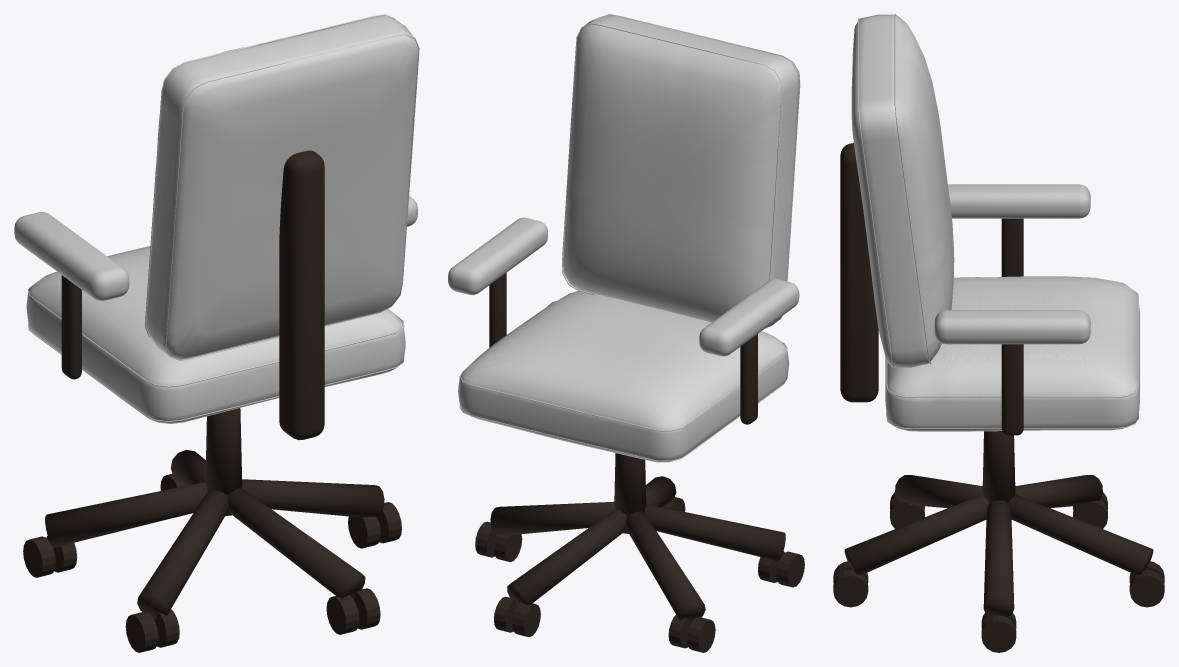
Rendered from office-chair-classic.glb.
3 views of the same model, side by side, from view 1: azimuth 30°, elevation 25°; view 2: azimuth 150°, elevation 25°; view 3: azimuth 270°, elevation 25° (orthographic). The views are drawn at different scales.
Visible parts, largest first — view 1: Houseit sewn upholstery; view 2: Houseit sewn upholstery; view 3: Houseit sewn upholstery.
Boxes of the visible parts, box(x1,y1,x2,y2) form: Houseit sewn upholstery: box(14, 14, 419, 652); Houseit sewn upholstery: box(448, 14, 804, 652); Houseit sewn upholstery: box(833, 14, 1164, 652).
Bounding box in the file's own units: 0.6245 × 1.05 × 0.6061.
Materials: 2 (1 with a texture image).
